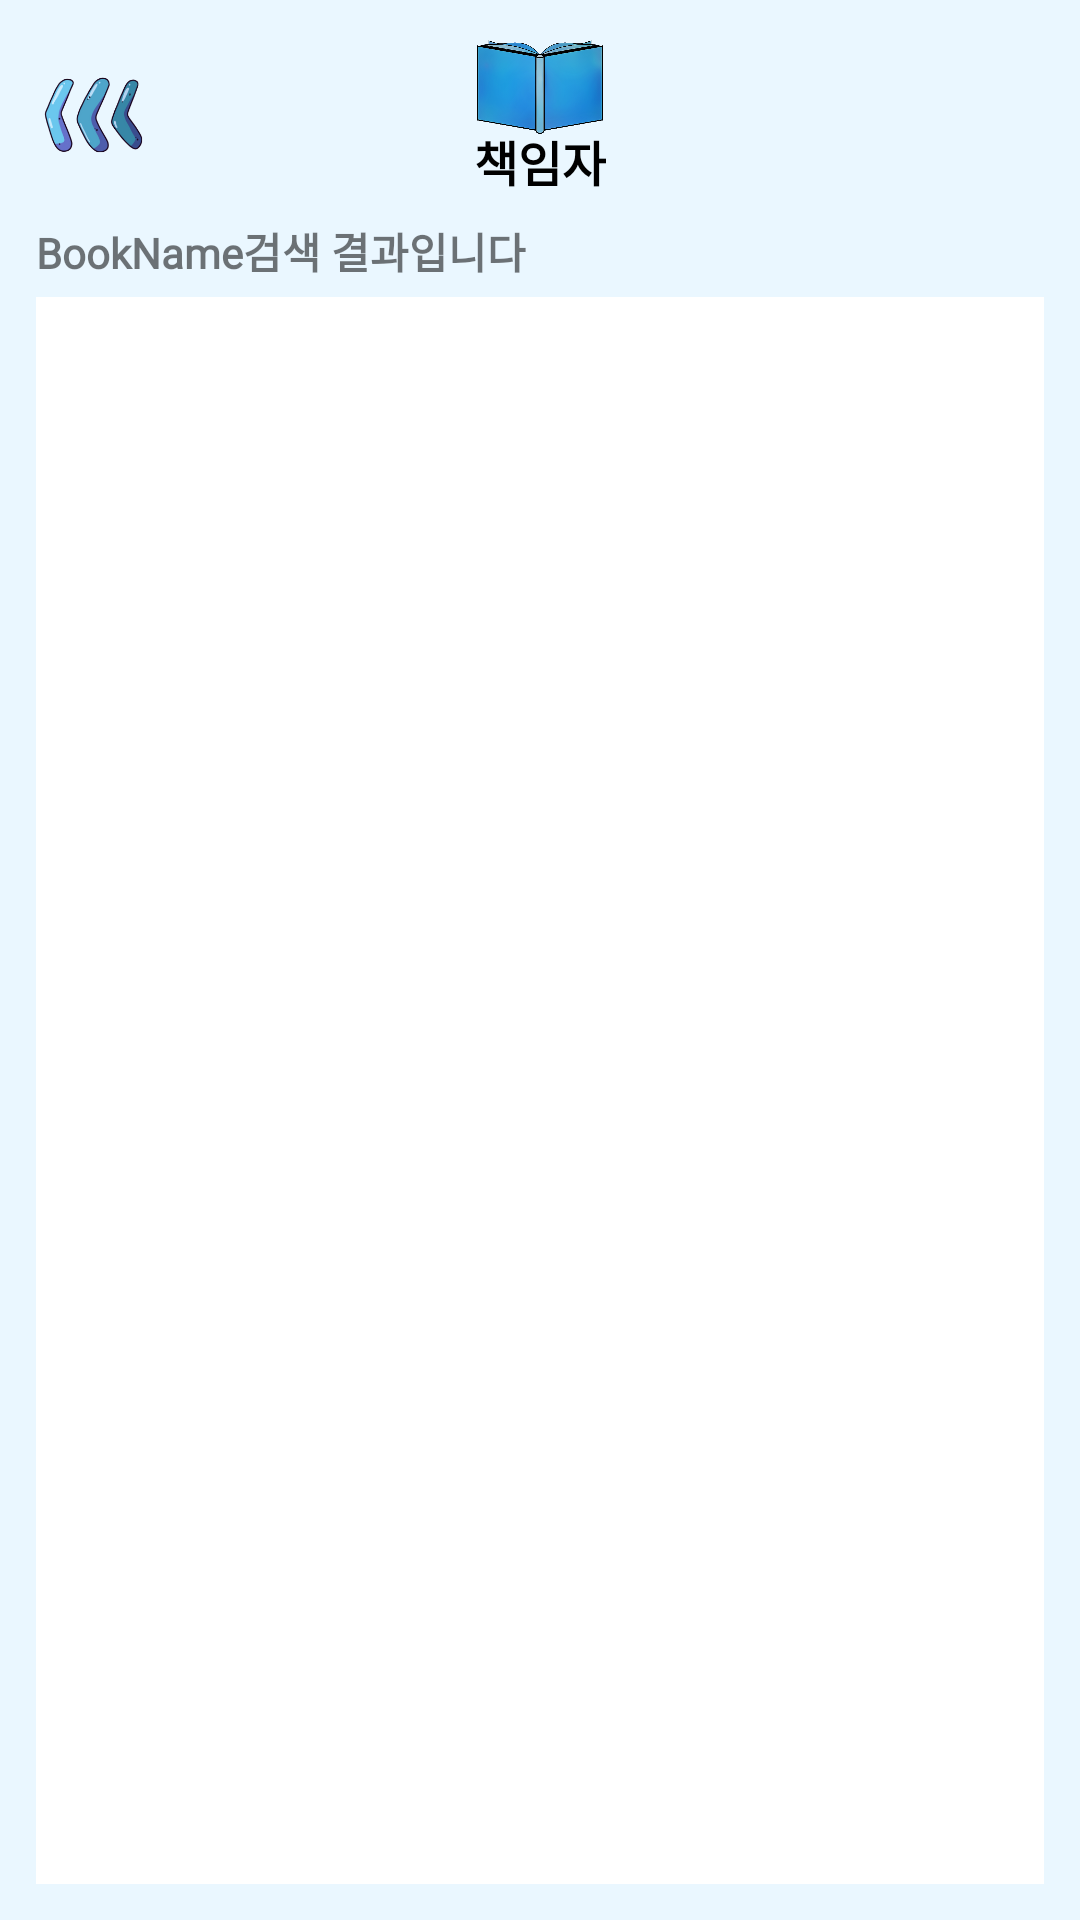

Icons on this 1080*1920 Android screen, each with the point to tap as point (x, y):
before: point (93, 114)
